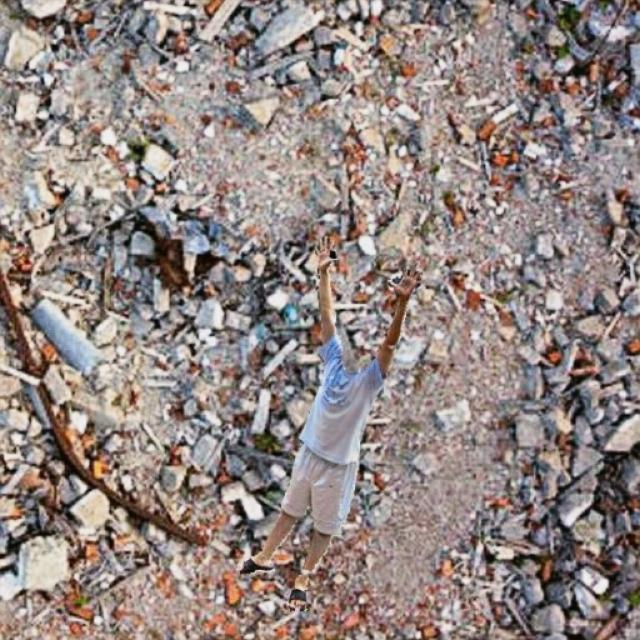Person in Rubble: (236, 236, 422, 610)
